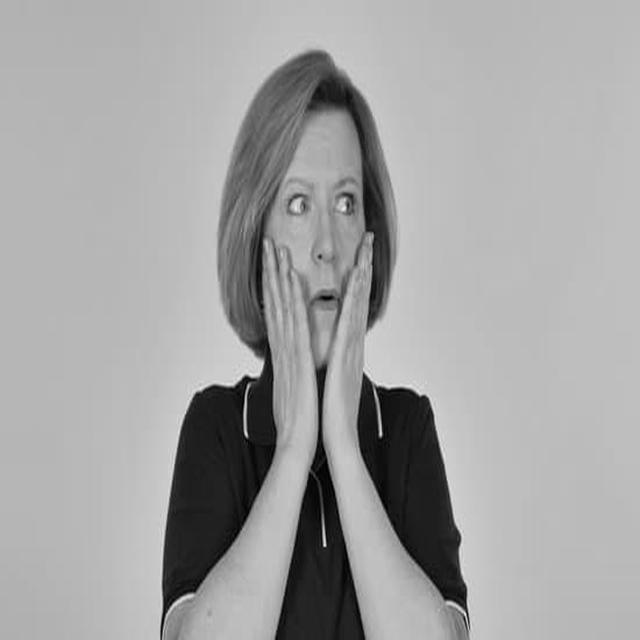Fear: (269, 89, 368, 370)
